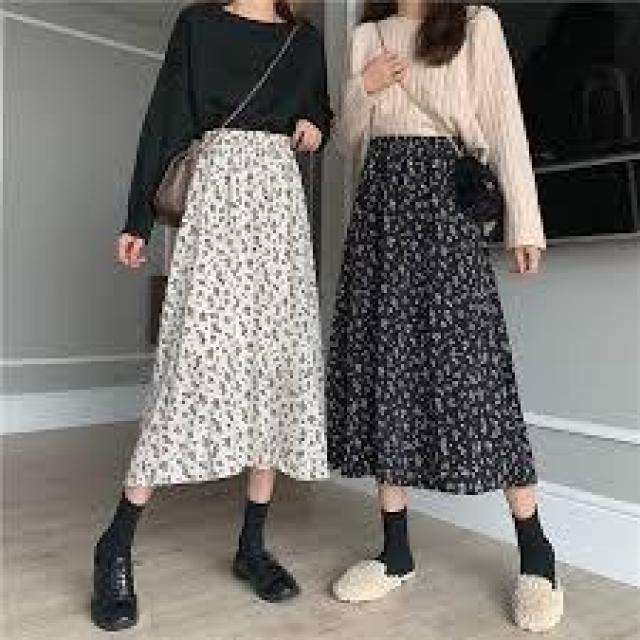skirt: (108, 130, 353, 493), (327, 130, 543, 500)
